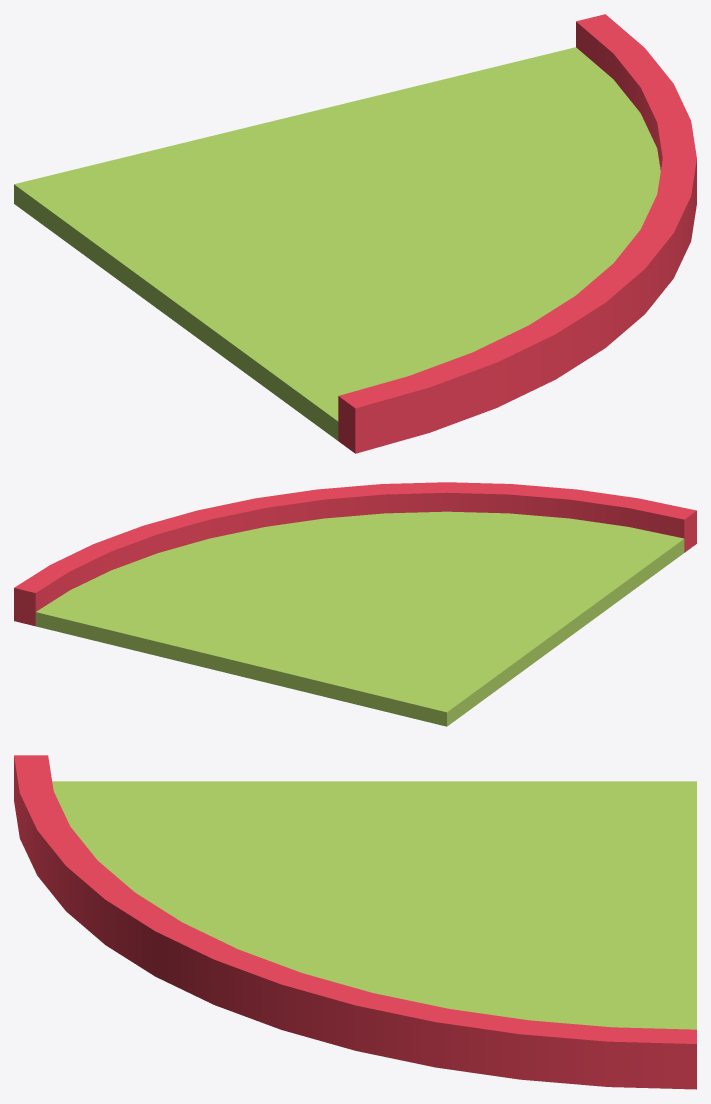
The model's file is roundLargeCornerOpen.fbx.
3 views of the same model, one above another, from view 1: azimuth 30°, elevation 25°; view 2: azimuth 150°, elevation 25°; view 3: azimuth 270°, elevation 25° (orthographic). The views are drawn at different scales.
Visible parts, largest first — view 1: roundLargeCornerOpen; view 2: roundLargeCornerOpen; view 3: roundLargeCornerOpen.
Boxes of the visible parts, x1,y1,x2,y2 form: roundLargeCornerOpen: [14, 14, 696, 453]; roundLargeCornerOpen: [14, 482, 696, 726]; roundLargeCornerOpen: [14, 755, 696, 1089].
Size of the model in its own units: 20 by 1.47 by 20.
